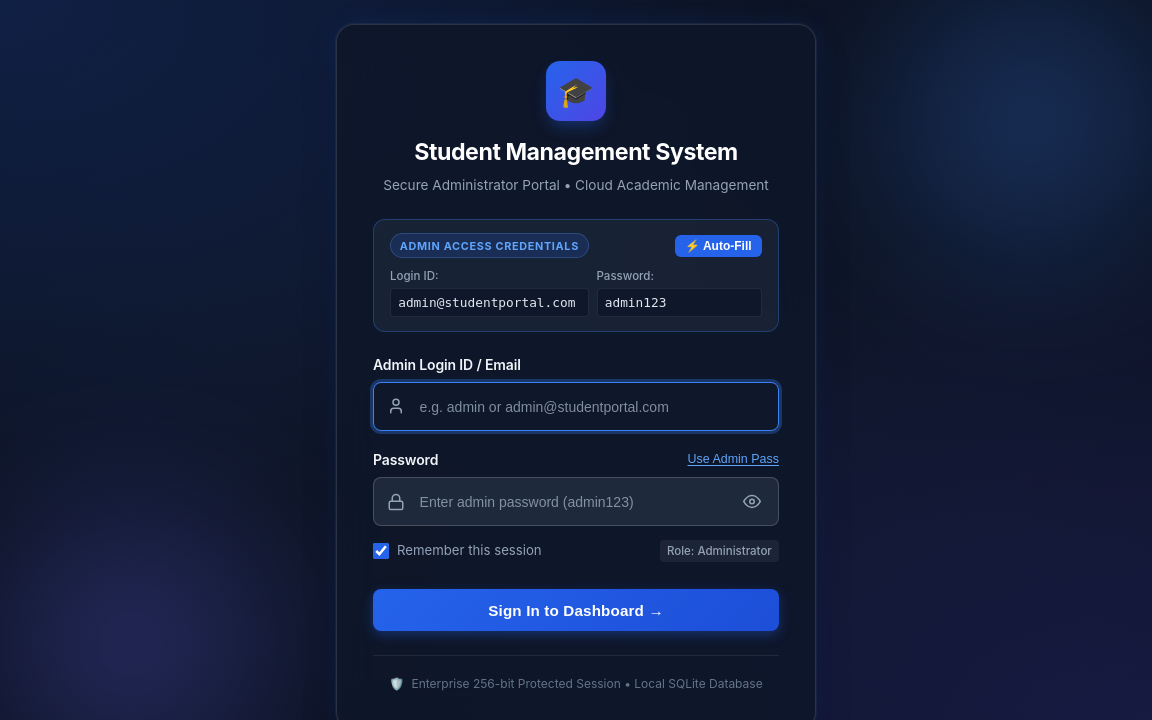
Scenario: LoginPage Component › fills credentials when Use Admin Pass button is clicked
Click the button "Use Admin Pass". click: click(733, 459)
box: x1=688 y1=452 x2=779 y2=466
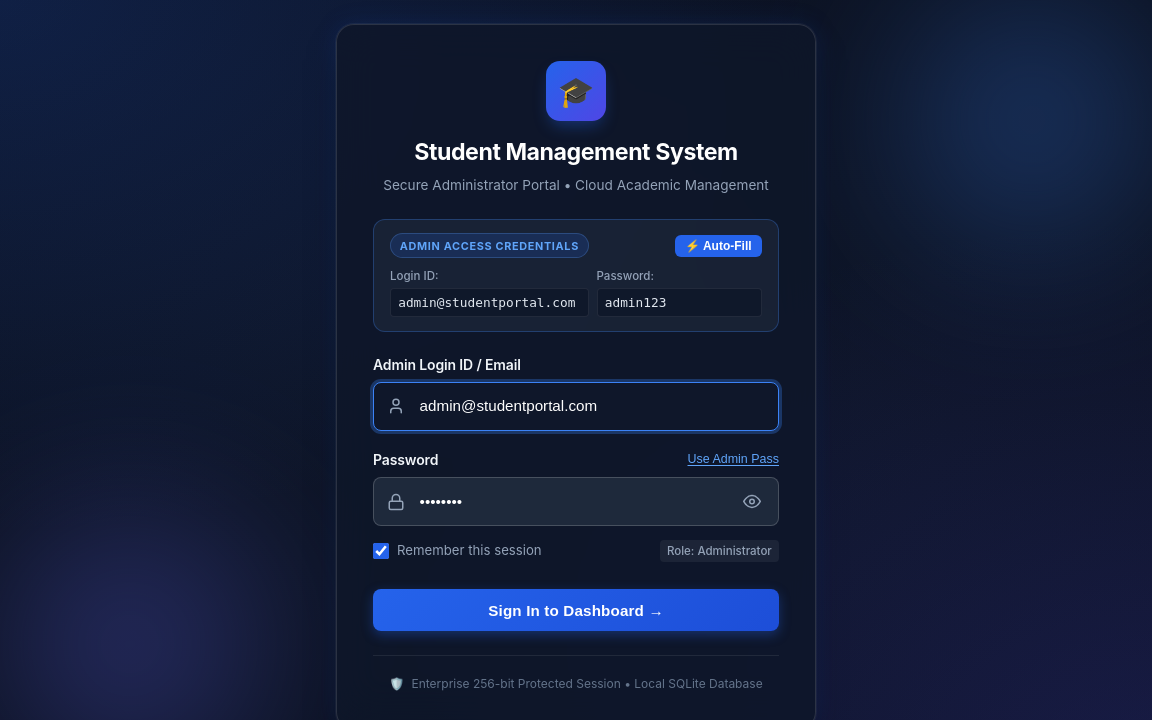
Check: the field labelled "Admin Login ID / Email" holds "admin@studentportal.com", box x1=373 y1=382 x2=779 y2=430
Check: the password field labelled "Password" holds "admin123", box x1=373 y1=477 x2=779 y2=526
